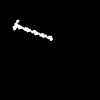half_double_crochet: (13, 20, 52, 40)
